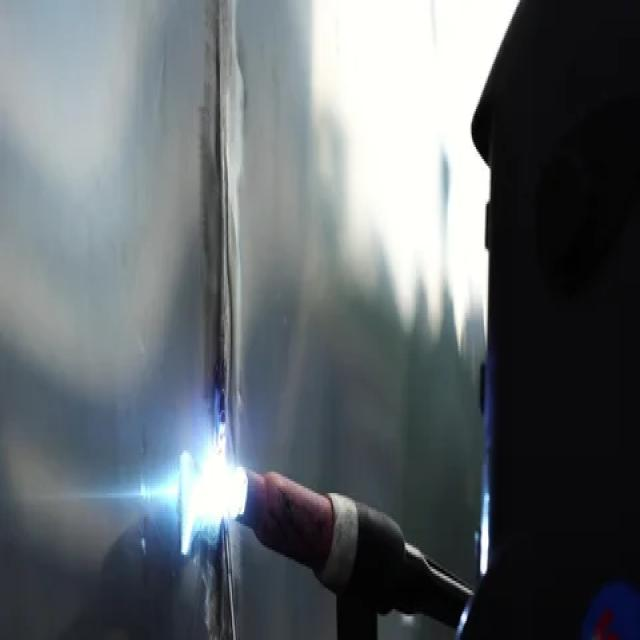welding: (186, 453, 243, 528)
